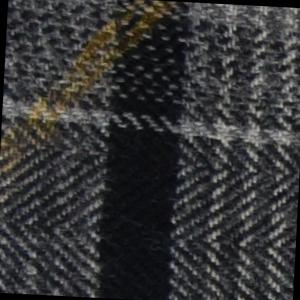Oil Stain: (1, 1, 181, 203)
